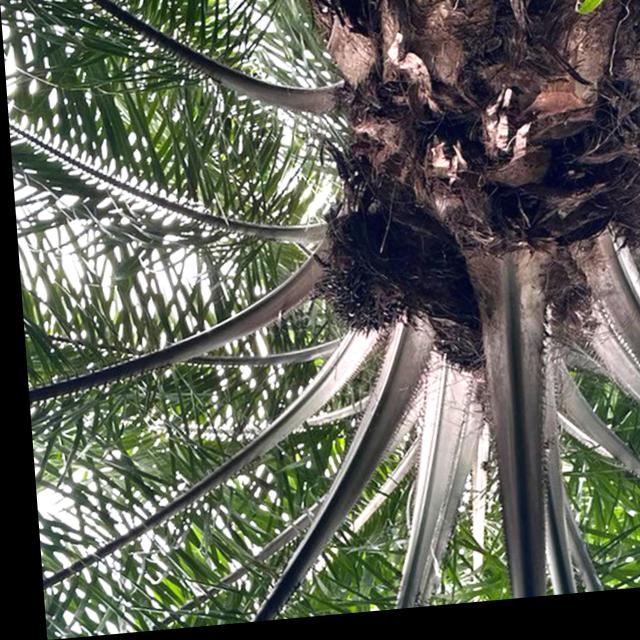unripe: (306, 245, 413, 350), (417, 291, 484, 392)
